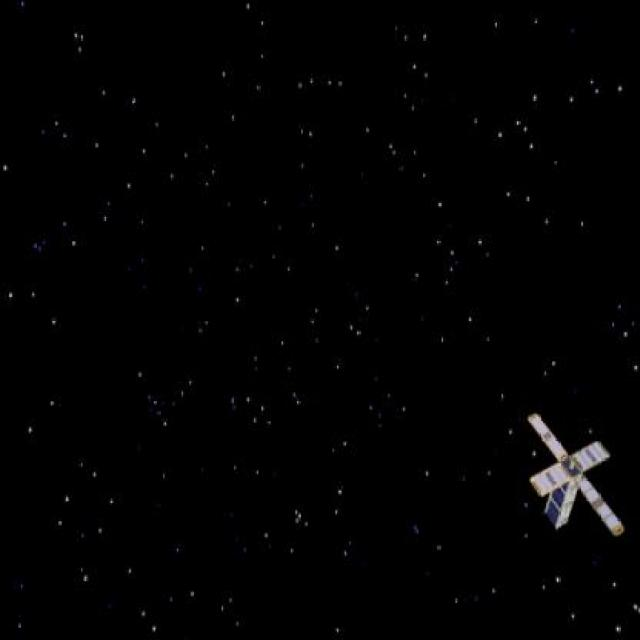satellite: (502, 413, 636, 550)
